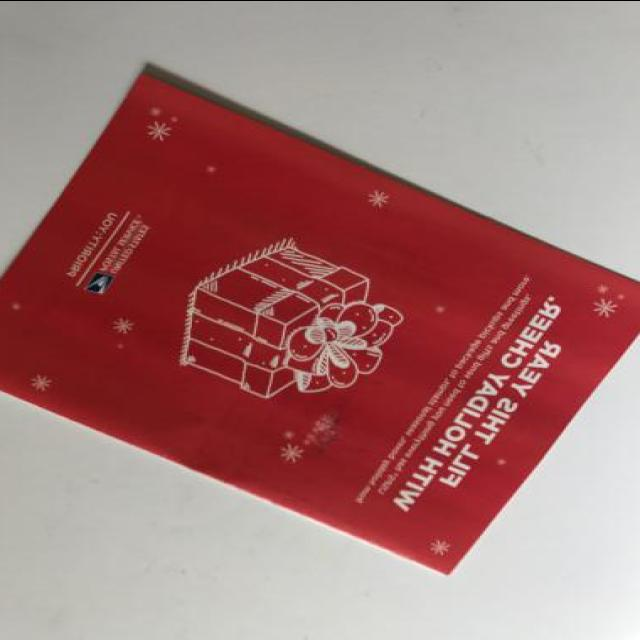kertas: (0, 70, 640, 575)
